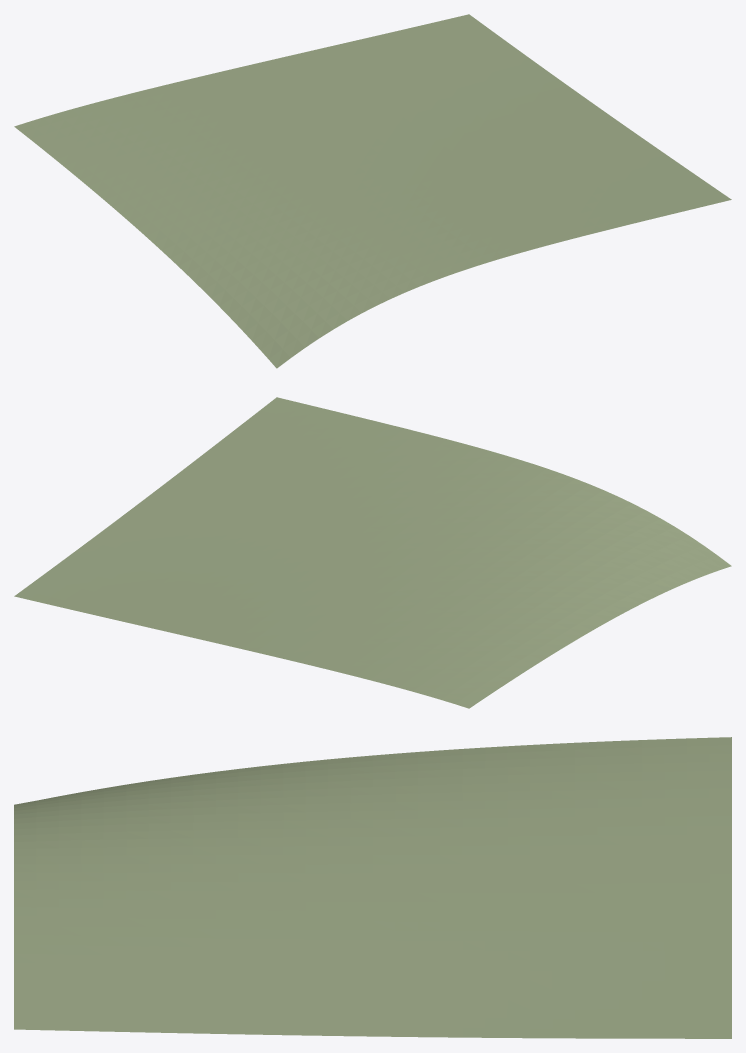
File: expanse-15-29.glb
3 renders of one model, top to bottom at view 1: azimuth 30°, elevation 25°; view 2: azimuth 150°, elevation 25°; view 3: azimuth 270°, elevation 25°, orthographic. The views are drawn at different scales.
Visible parts, largest first — view 1: expanse-15-29; view 2: expanse-15-29; view 3: expanse-15-29.
Boxes of the visible parts, x1=… form: expanse-15-29: x1=14, y1=14, x2=731, y2=368; expanse-15-29: x1=14, y1=397, x2=731, y2=708; expanse-15-29: x1=14, y1=737, x2=731, y2=1038.
Size of the model in its own units: 256 by 31.21 by 256.
